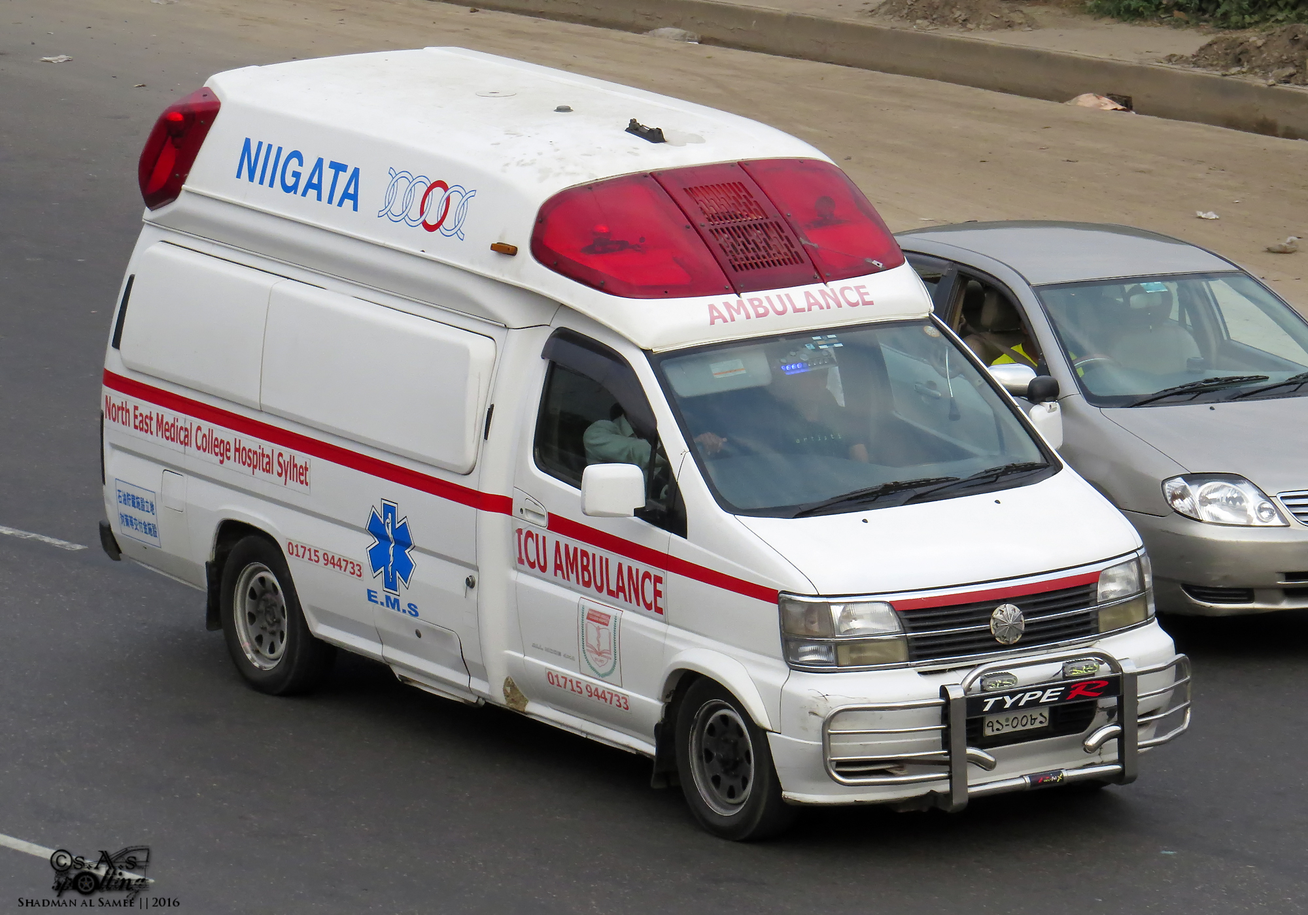Ambulance: (82, 43, 1192, 828)
private car: (888, 213, 1308, 589)
